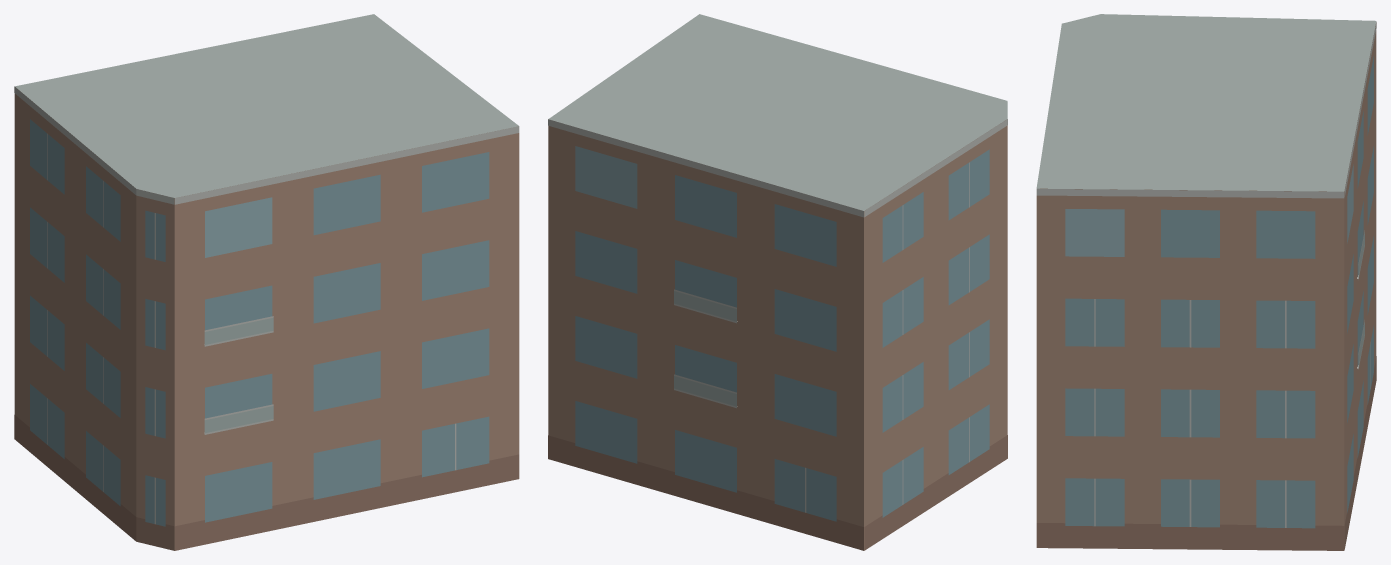
The model's file is survey-upis-32973363.glb.
3 renders of one model, left to right at view 1: azimuth 30°, elevation 25°; view 2: azimuth 150°, elevation 25°; view 3: azimuth 270°, elevation 25°, orthographic. The views are drawn at different scales.
Parts seen in each view (by area): view 1: survey-upis-32973363.tmp; view 2: survey-upis-32973363.tmp; view 3: survey-upis-32973363.tmp.
Boxes of the visible parts, x1,y1,x2,y2 form: survey-upis-32973363.tmp: (14,14,519,550); survey-upis-32973363.tmp: (548,14,1007,550); survey-upis-32973363.tmp: (1036,14,1376,550).
Size of the model in its own units: 13.58 by 12.8 by 10.99.
